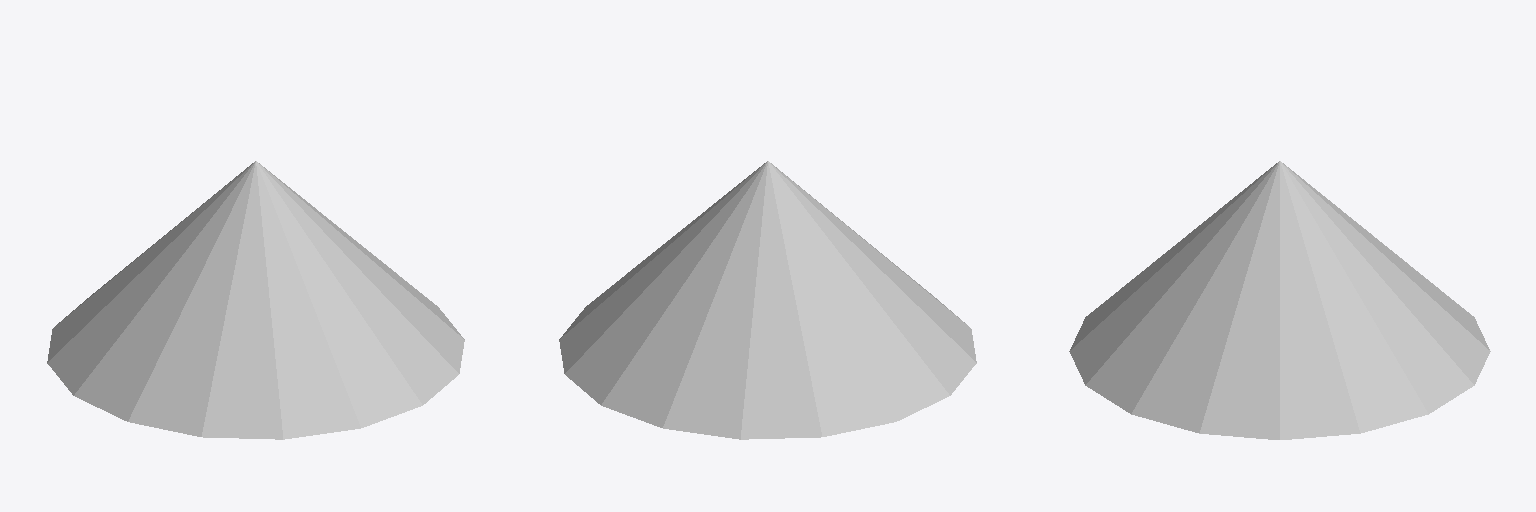
File: testCone.obj
3 renders of one model, left to right at view 1: azimuth 30°, elevation 25°; view 2: azimuth 150°, elevation 25°; view 3: azimuth 270°, elevation 25°, orthographic.
Parts seen in each view (by area): view 1: Cone_Cone.004; view 2: Cone_Cone.004; view 3: Cone_Cone.004.
Boxes of the visible parts, x1=… form: Cone_Cone.004: x1=47, y1=161, x2=464, y2=439; Cone_Cone.004: x1=559, y1=161, x2=976, y2=439; Cone_Cone.004: x1=1069, y1=161, x2=1490, y2=439.
Bounding box in the file's own units: 2 × 1 × 2.